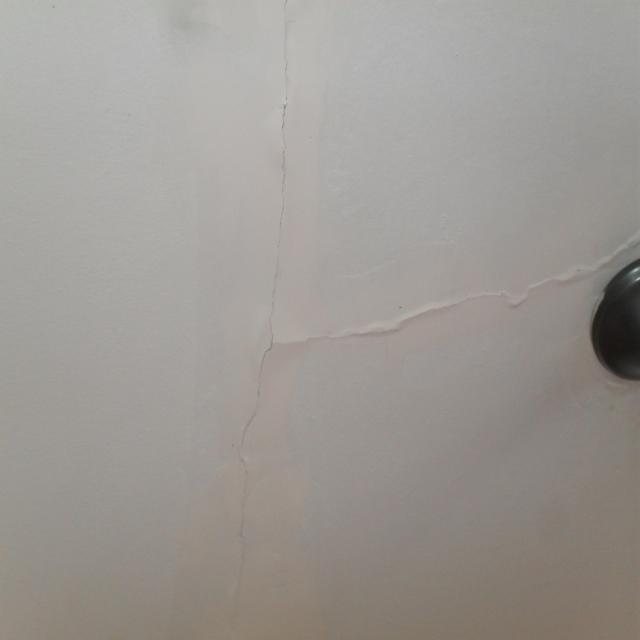crack: (234, 2, 291, 612)
